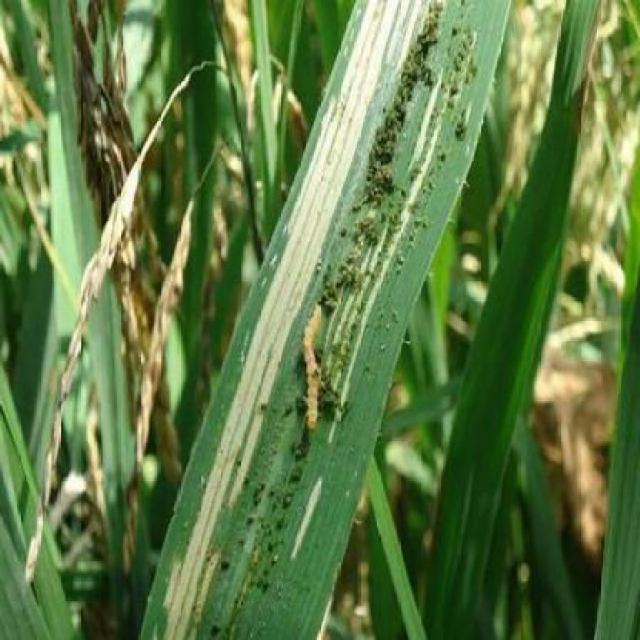leaf-folder: (286, 286, 339, 440)
